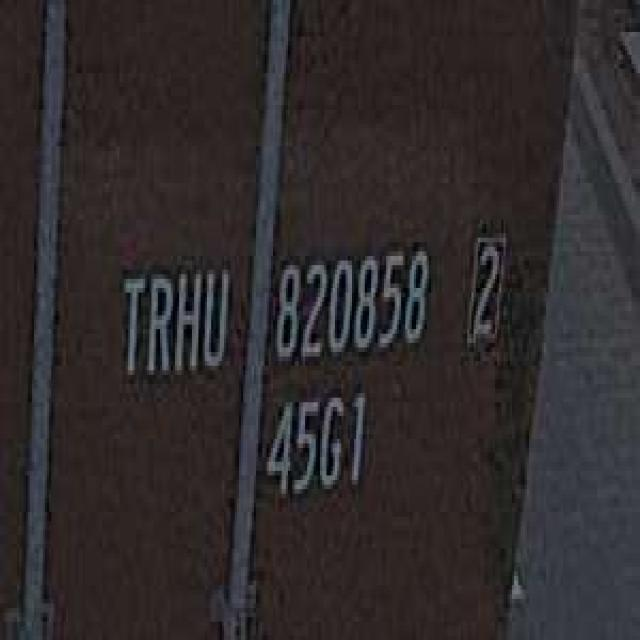dv: (461, 215, 508, 356)
owner: (115, 247, 233, 393)
serial: (269, 233, 433, 366)
size: (260, 380, 369, 508)
